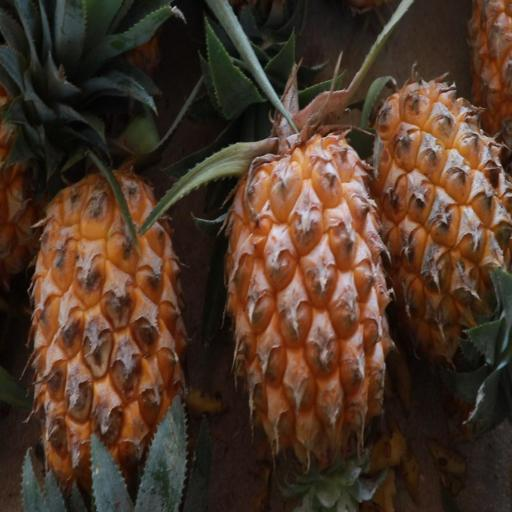Pineapple - v8 v1: (220, 110, 394, 508), (21, 122, 190, 512), (368, 63, 512, 382), (0, 14, 110, 286)
